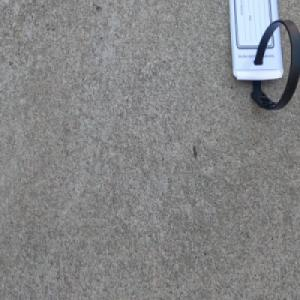LuggageTag: (226, 0, 300, 112)
